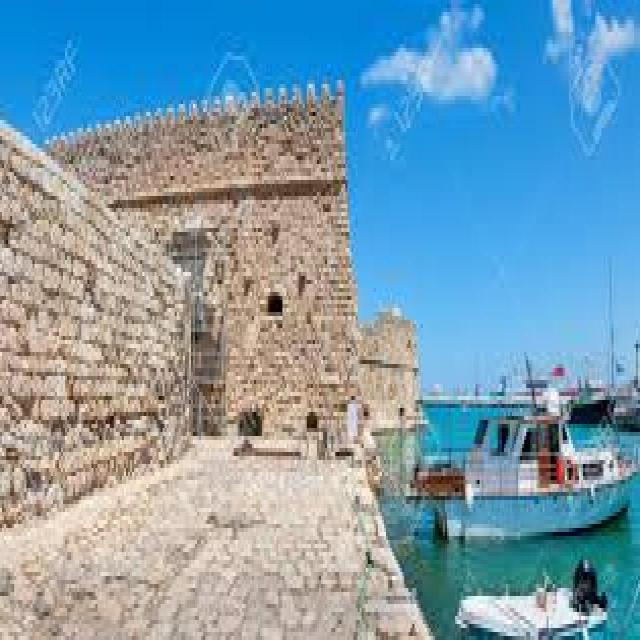Kules: (1, 81, 431, 444)
